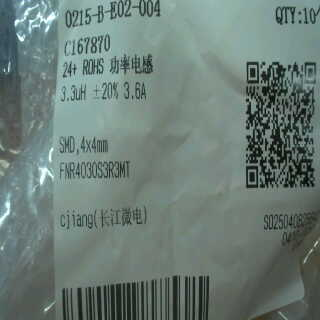3.3uH: (57, 81, 88, 107)
